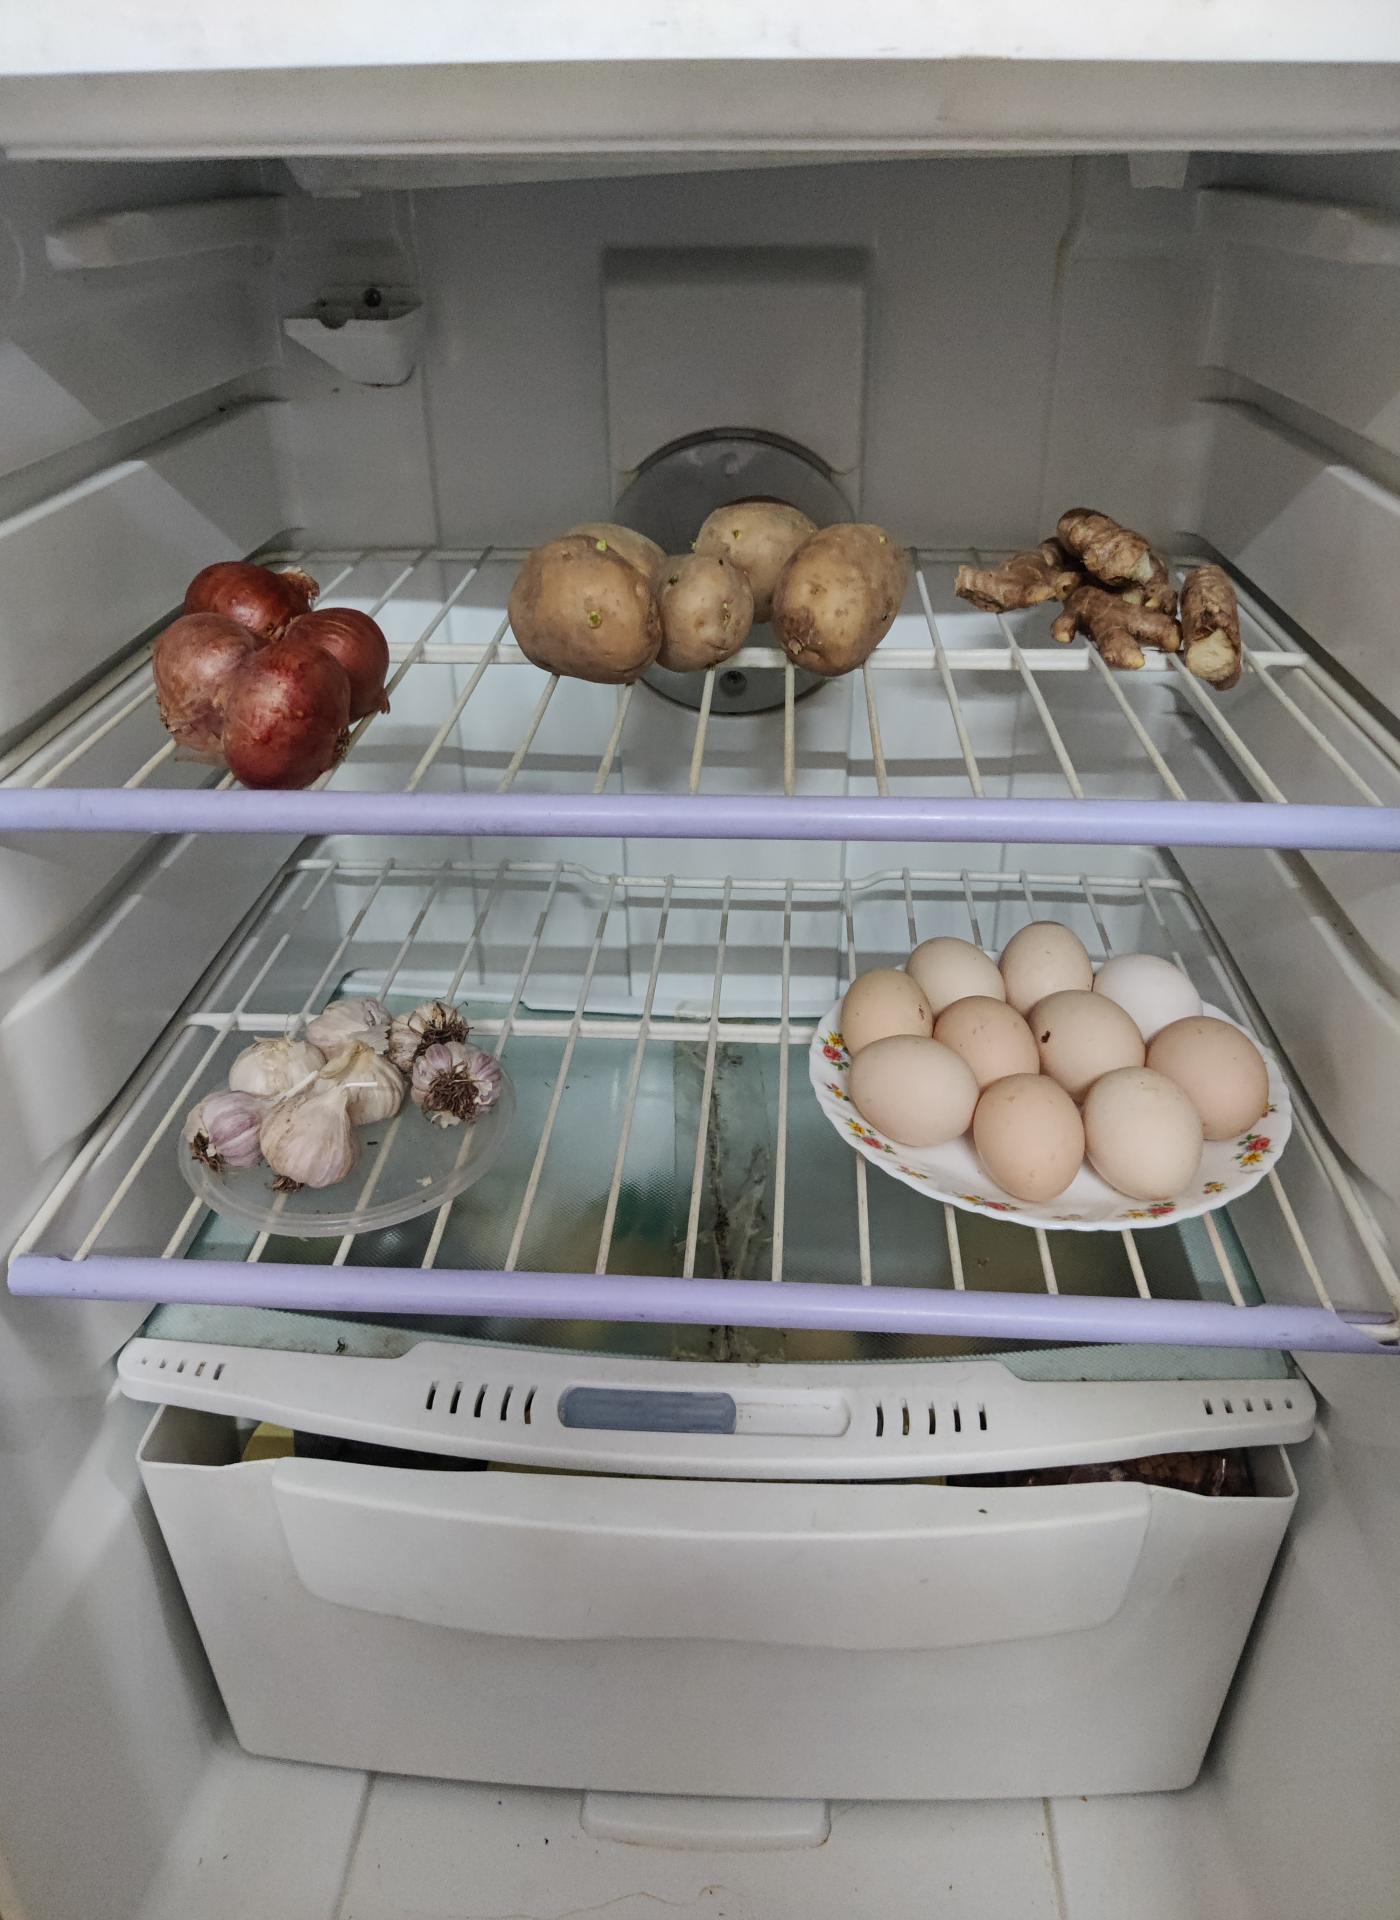egg: (823, 908, 1275, 1196)
garlic: (191, 994, 496, 1187)
ginger: (953, 504, 1251, 669)
onion: (157, 553, 394, 786)
potato: (511, 499, 917, 683)
